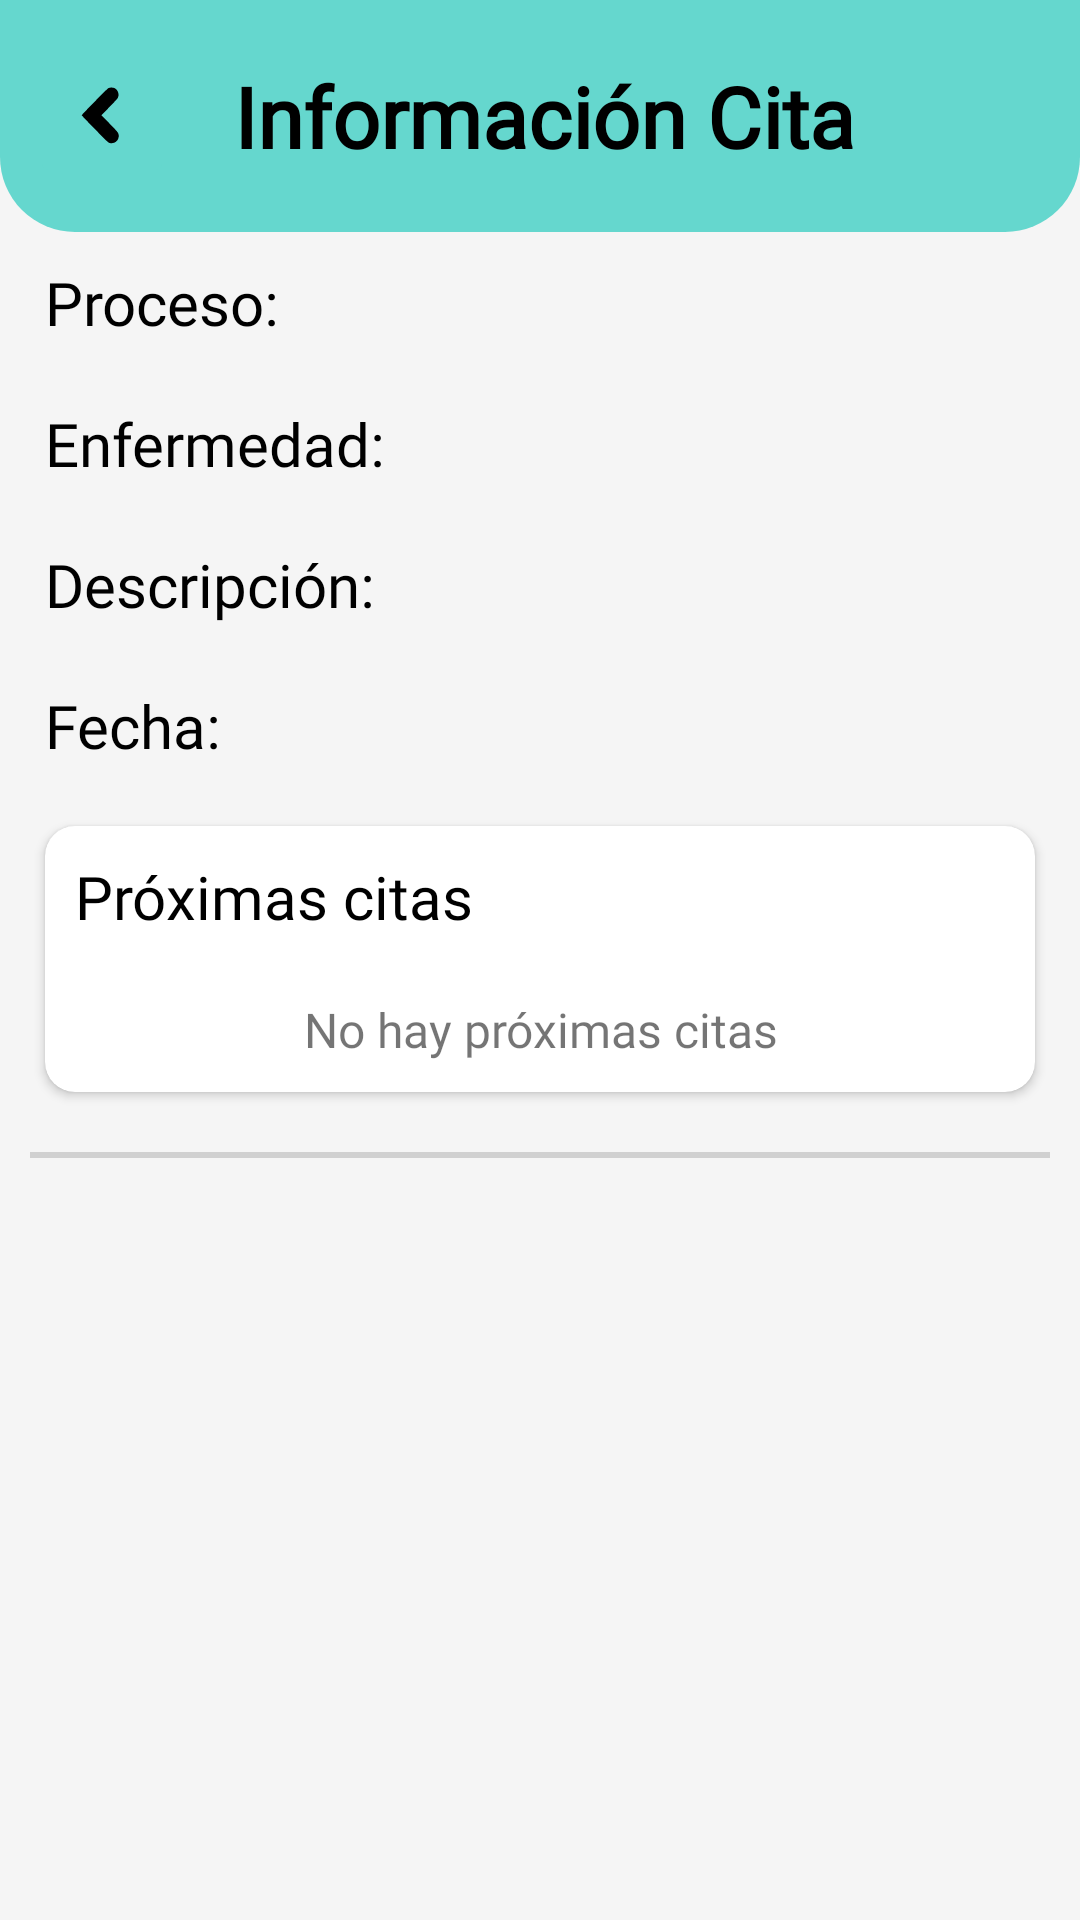

Where icons sit on this 1080px x 1920px app screen, as {"x1": x1, "y1": y1, "x2": x2, "y2": y2}:
flecha atras: {"x1": 81, "y1": 87, "x2": 119, "y2": 144}
